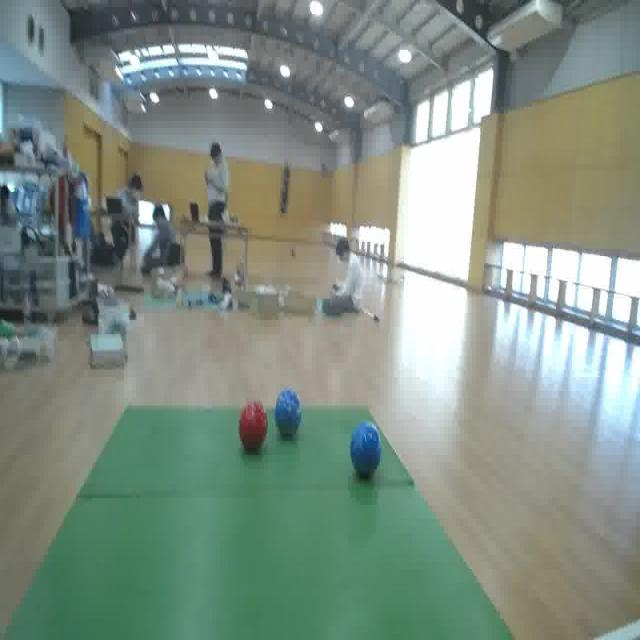blue_ball: (350, 420, 382, 478), (273, 382, 303, 440)
red_ball: (241, 392, 269, 461)
